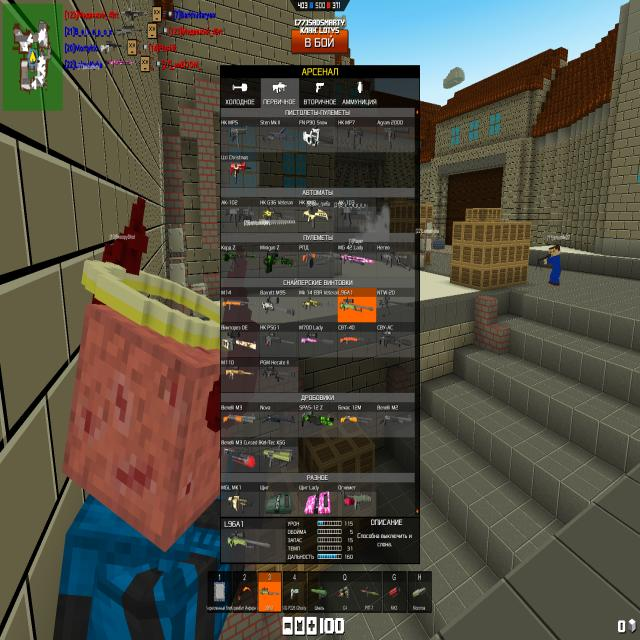player: (544, 242, 561, 285)
